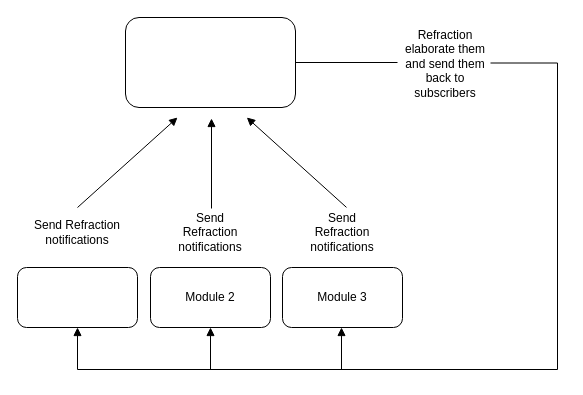
This 583x395 diagram has some shape labels left out. Here are the shapes that lost their labels. From the top down, the centre of each, then its label:
[210,62]: Refraction
[77,297]: Module 1
